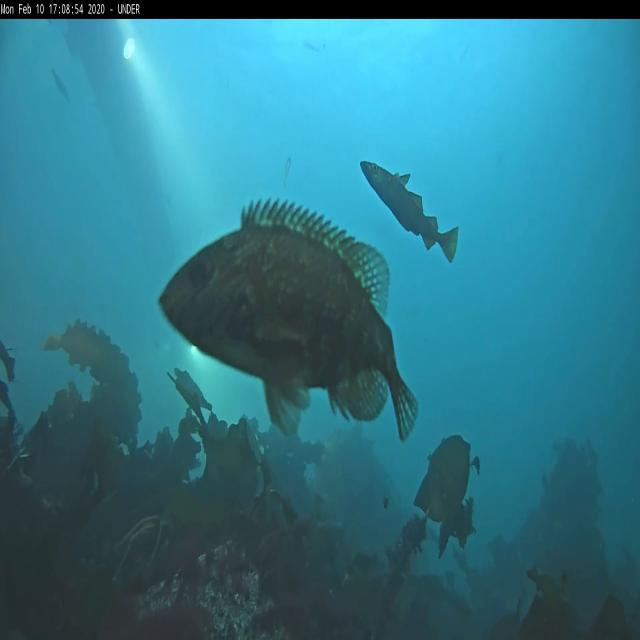fish: (159, 198, 419, 444), (361, 157, 458, 265), (284, 156, 291, 188)
